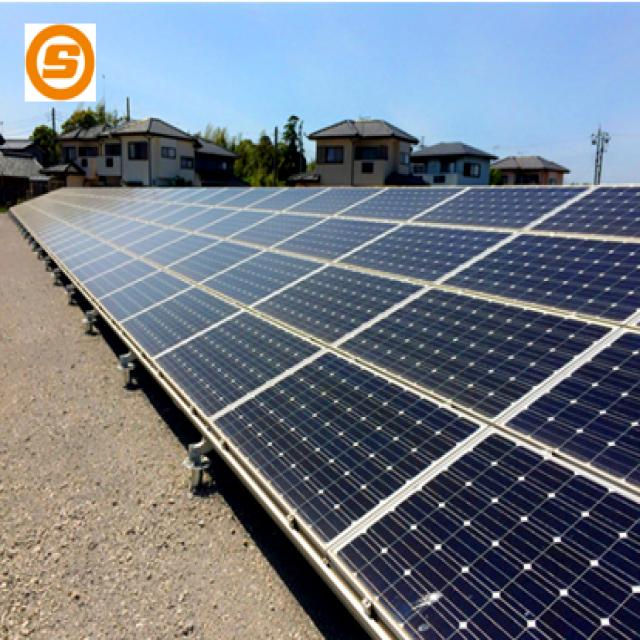crack: (285, 397, 640, 640), (160, 350, 486, 548), (354, 264, 604, 437), (248, 246, 428, 376), (358, 198, 516, 311)
